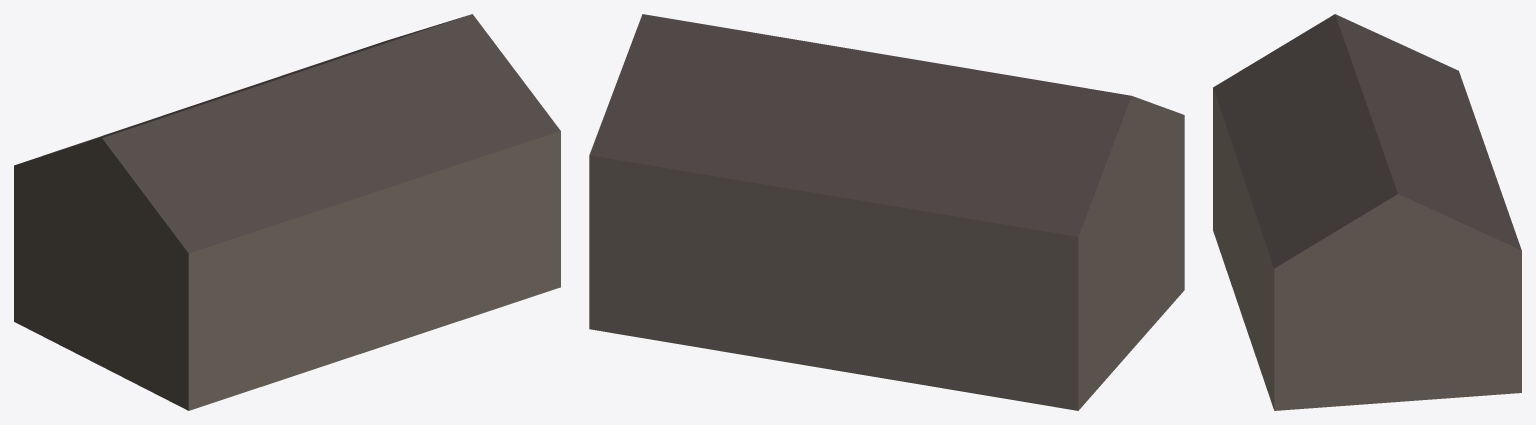
3 renders of one model, left to right at view 1: azimuth 30°, elevation 25°; view 2: azimuth 150°, elevation 25°; view 3: azimuth 270°, elevation 25°, orthographic. The views are drawn at different scales.
Parts seen in each view (by area): view 1: HP-w1197068350; view 2: HP-w1197068350; view 3: HP-w1197068350.
Part boxes in pixels (<box>): HP-w1197068350: <box>14,14,560,410</box>; HP-w1197068350: <box>589,14,1184,410</box>; HP-w1197068350: <box>1213,14,1521,410</box>.
Bounding box in the file's own units: 17.88 × 8.77 × 11.8.
